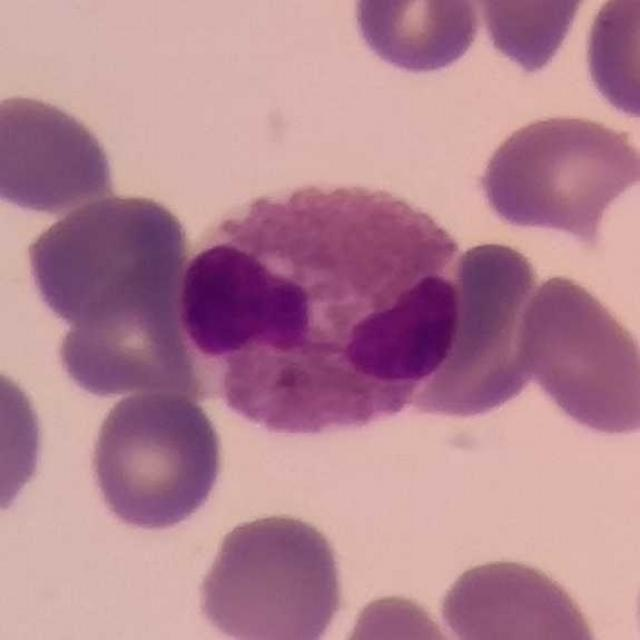Eosinophil: (194, 170, 473, 452)
RBC: (385, 235, 552, 423), (21, 188, 195, 332), (512, 267, 640, 443), (84, 386, 228, 536), (475, 108, 639, 238), (192, 506, 348, 640), (52, 279, 203, 403), (435, 551, 609, 640), (0, 88, 120, 216), (346, 0, 484, 80), (458, 0, 604, 75), (318, 586, 488, 640), (0, 358, 51, 526), (579, 0, 640, 125)
